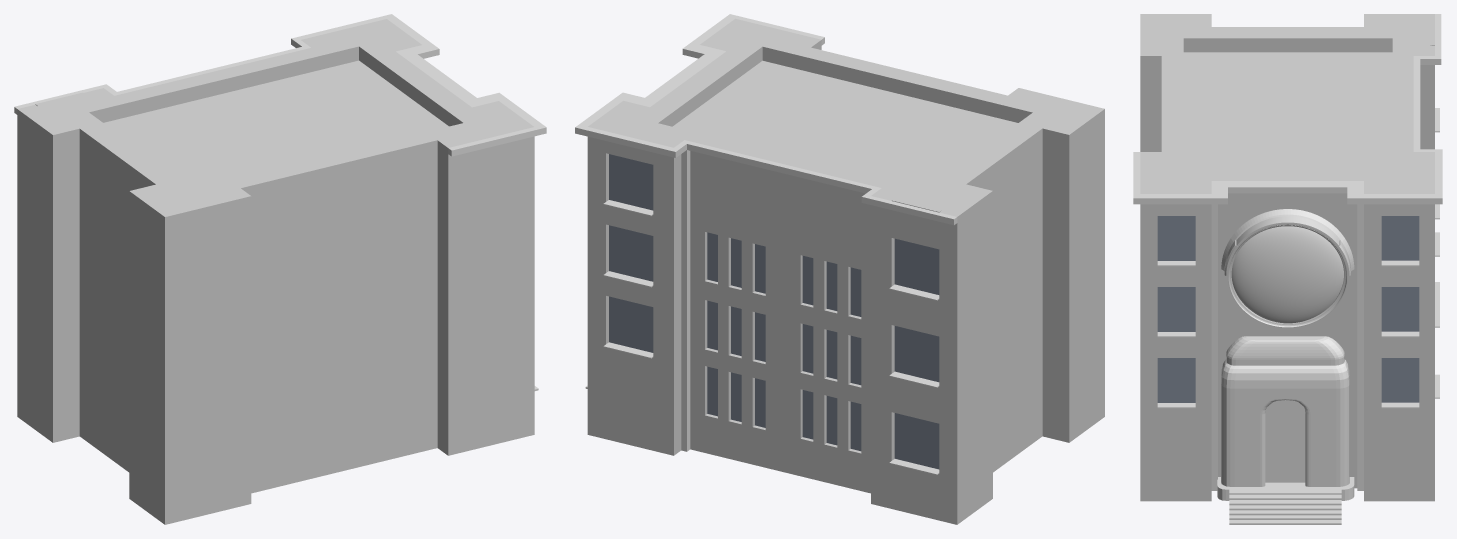
Rendered from MainHouse_Lvl1.fbx.
3 renders of one model, left to right at view 1: azimuth 30°, elevation 25°; view 2: azimuth 150°, elevation 25°; view 3: azimuth 270°, elevation 25°, orthographic.
Parts seen in each view (by area): view 1: Cube.043, Cube.062; view 2: Cube.043, Cube.062, Cube.065, Cube.045; view 3: Cube.043, Cube.060, Sphere.004, Cube.062, Cube.061, Cylinder.035, Cube.064, Cube.063, Cylinder.040, Cube.045, Cube.046.
Boxes of the visible parts, x1,y1,x2,y2 form: Cube.043: (17,19,534,524); Cube.062: (14,14,546,156); Cube.043: (587,18,1104,524); Cube.062: (575,14,957,225); Cube.065: (681,150,690,451); Cube.045: (603,200,653,358); Cube.043: (1140,14,1434,501); Cube.060: (1217,336,1354,500); Sphere.004: (1231,226,1343,323); Cube.062: (1133,14,1442,204); Cube.061: (1229,489,1341,524); Cylinder.035: (1227,216,1347,327); Cube.064: (1357,181,1363,490); Cube.063: (1211,204,1217,490); Cylinder.040: (1221,209,1354,275); Cube.045: (1381,232,1439,408); Cube.046: (1157,261,1195,408).
Bounding box in the file's own units: 1048 × 738 × 672.
